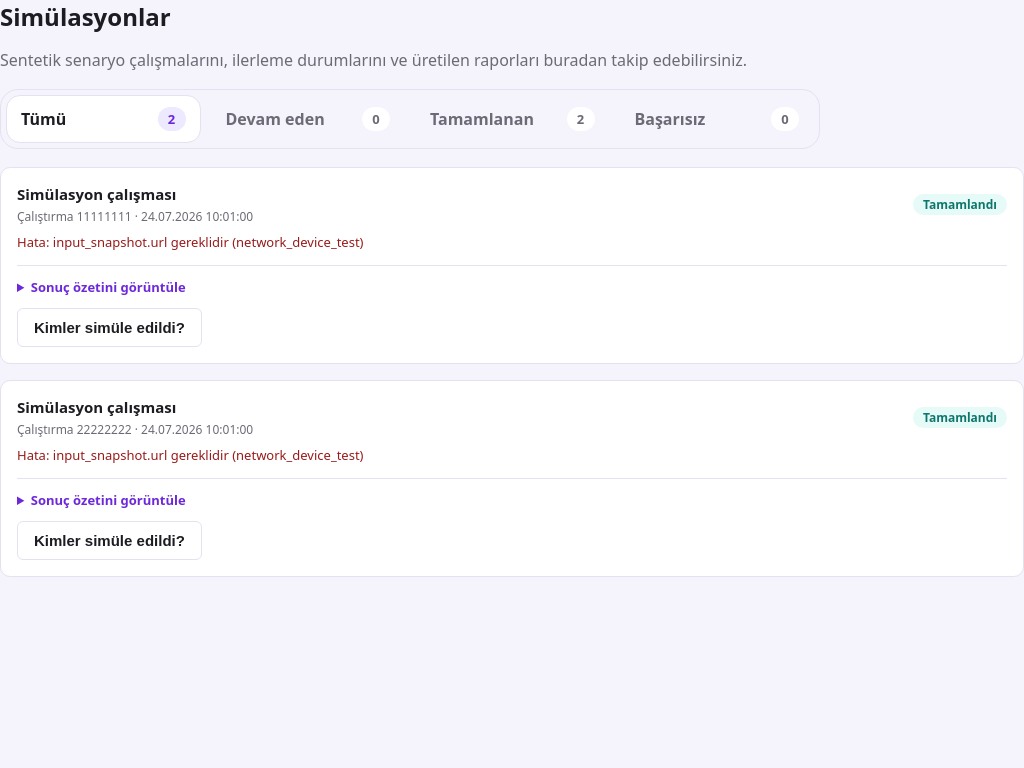
Simulations - 'Kimler simüle edildi?' persona paneli › A/B run kartlari kendi persona_count degerini bagimsiz kullanir
The width and height of the screenshot is (1024, 768).
Expected: the text "Çalıştırma 11111111 · 24.07.2026 10:01:00" is shown, [17,208,253,225]
Expected: the text "Çalıştırma 22222222 · 24.07.2026 10:01:00" is shown, [17,421,253,438]
Click the button "Kimler simüle edildi?" below "11111111".
click(109, 328)  # box [17,308,202,347]
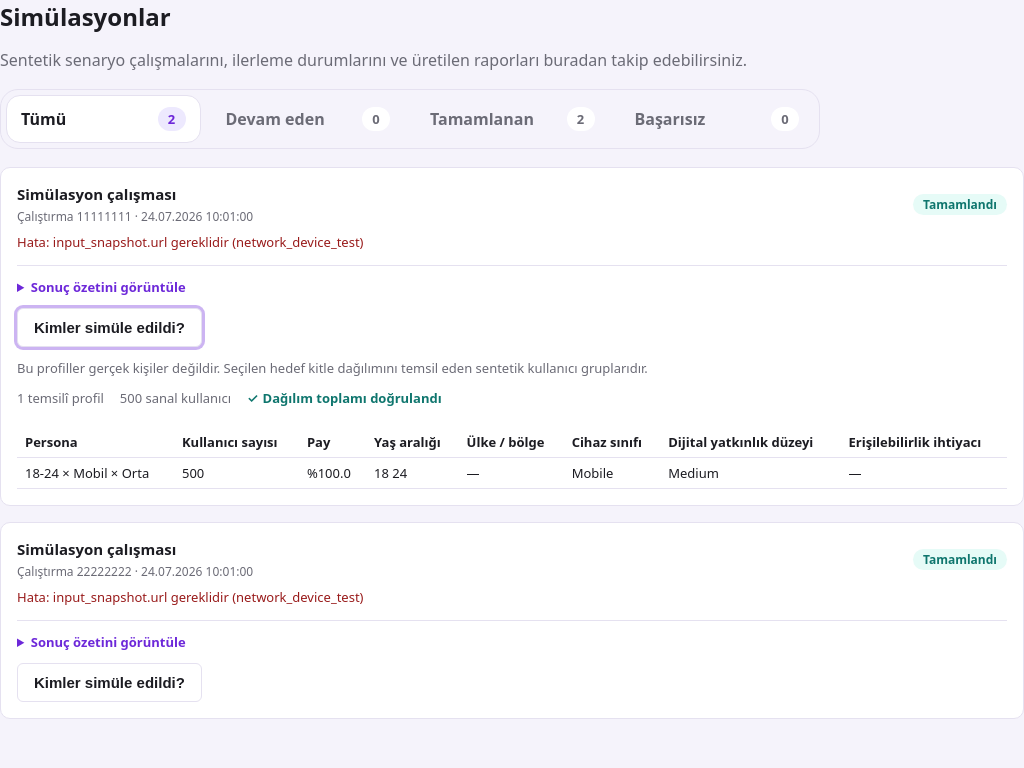
Click the button "Kimler simüle edildi?" below "22222222".
click(109, 682)  # box [17,663,202,702]
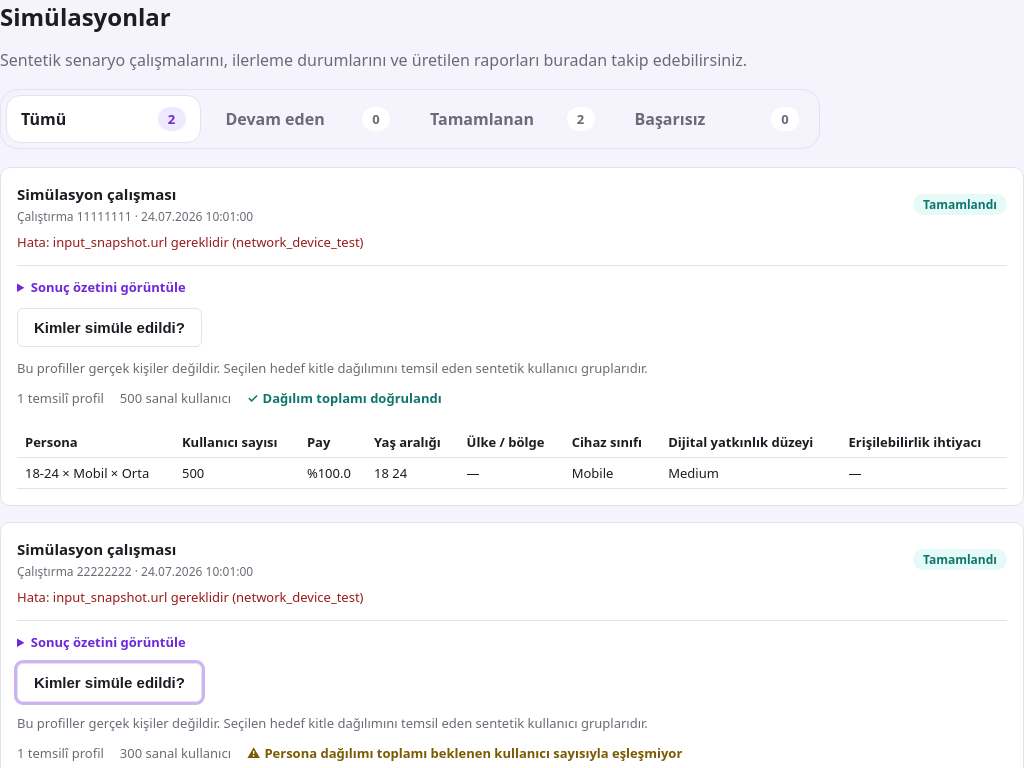
Result: the text "✓ Dağılım toplamı doğrulandı" is shown once at [247,389,442,407]
Result: the text "⚠ Persona dağılımı toplamı beklenen kullanıcı sayısıyla eşleşmiyor" is shown at [247,744,682,762]
